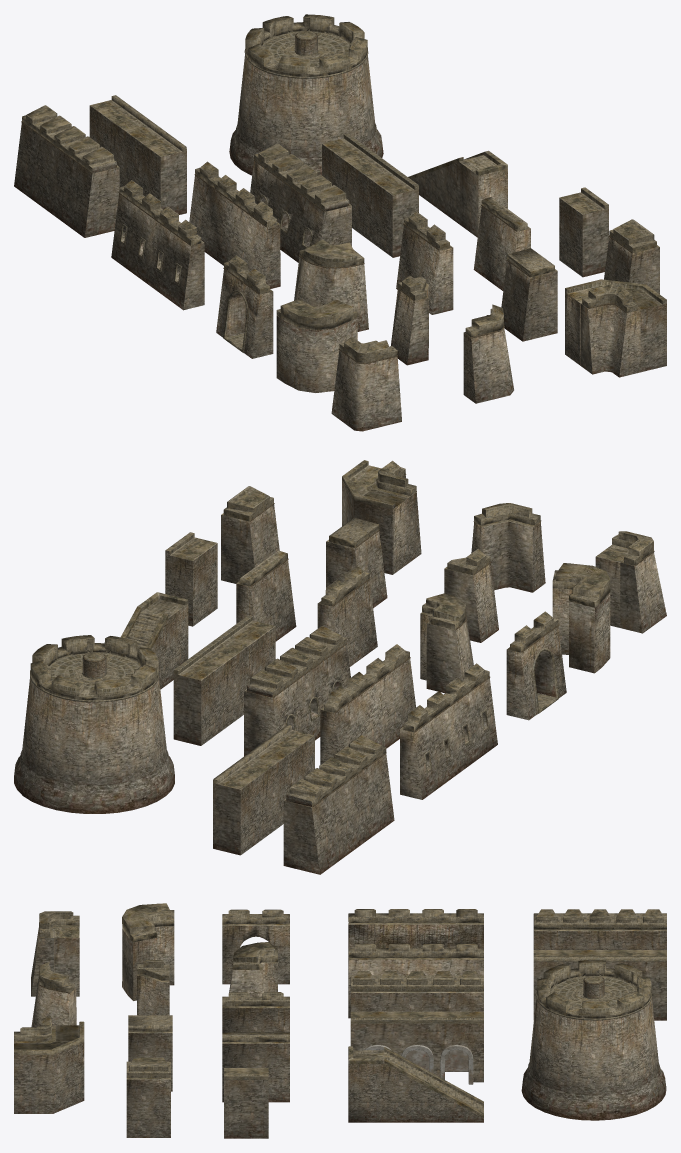
Rendered from modular_fort_01.glb.
3 views of the same model, one above another, from view 1: azimuth 30°, elevation 25°; view 2: azimuth 150°, elevation 25°; view 3: azimuth 270°, elevation 25° (orthographic). The views are drawn at different scales.
Parts seen in each view (by area): view 1: modular_fort_01_tower_round, modular_fort_01_wall_thick_straight_01, modular_fort_01_wall_thin_straight_02, modular_fort_01_wall_thick_straight_02, modular_fort_01_wall_thin_straight_01, modular_fort_01_wall_walkway_straight_01, modular_fort_01_wall_walkway_straight_02, modular_fort_01_wall_thick_corner_02, modular_fort_01_wall_thin_corner_02, modular_fort_01_wall_thin_corner_01, modular_fort_01_wall_stairs_straight_01, modular_fort_01_wall_thin_gate_01 (+9 smaller); view 2: modular_fort_01_tower_round, modular_fort_01_wall_thick_straight_01, modular_fort_01_wall_thin_straight_02, modular_fort_01_wall_walkway_straight_01, modular_fort_01_wall_walkway_straight_02, modular_fort_01_wall_thick_straight_02, modular_fort_01_wall_thin_straight_01, modular_fort_01_wall_thick_corner_02, modular_fort_01_wall_thin_corner_03, modular_fort_01_wall_thin_gate_01, modular_fort_01_wall_thick_corner_01, modular_fort_01_wall_thick_end_02 (+10 smaller); view 3: modular_fort_01_tower_round, modular_fort_01_wall_stairs_straight_01, modular_fort_01_wall_walkway_straight_01, modular_fort_01_wall_walkway_corner_01, modular_fort_01_wall_thick_straight_01, modular_fort_01_wall_thick_straight_02, modular_fort_01_wall_thin_straight_02, modular_fort_01_wall_thin_straight_01, modular_fort_01_wall_thick_corner_02, modular_fort_01_wall_thick_end_02, modular_fort_01_wall_walkway_straight_02, modular_fort_01_wall_thin_straight_03 (+10 smaller).
Part boxes in pixels (x1,y1,x2,y2): modular_fort_01_tower_round: (229,14,383,175); modular_fort_01_wall_thick_straight_01: (14,105,119,237); modular_fort_01_wall_thin_straight_02: (111,180,204,310); modular_fort_01_wall_thick_straight_02: (250,143,351,262); modular_fort_01_wall_thin_straight_01: (189,161,280,288); modular_fort_01_wall_walkway_straight_01: (322,133,418,257); modular_fort_01_wall_walkway_straight_02: (89,95,186,214); modular_fort_01_wall_thick_corner_02: (276,298,357,392); modular_fort_01_wall_thin_corner_02: (331,336,401,431); modular_fort_01_wall_thin_corner_01: (580,284,640,377); modular_fort_01_wall_stairs_straight_01: (408,150,507,237); modular_fort_01_wall_thin_gate_01: (216,255,273,358); modular_fort_01_tower_round: (14,635,174,813); modular_fort_01_wall_thick_straight_01: (283,735,394,874); modular_fort_01_wall_thin_straight_02: (400,663,497,799); modular_fort_01_wall_walkway_straight_01: (173,615,275,745); modular_fort_01_wall_walkway_straight_02: (213,724,314,855); modular_fort_01_wall_thick_straight_02: (244,626,350,756); modular_fort_01_wall_thin_straight_01: (320,644,415,764); modular_fort_01_wall_thick_corner_02: (552,563,610,673); modular_fort_01_wall_thin_corner_03: (471,503,545,592); modular_fort_01_wall_thin_gate_01: (506,611,566,720); modular_fort_01_wall_thick_corner_01: (420,593,473,693); modular_fort_01_wall_thick_end_02: (221,486,279,583); modular_fort_01_tower_round: (521,960,666,1120); modular_fort_01_wall_stairs_straight_01: (348,1046,483,1122); modular_fort_01_wall_walkway_straight_01: (350,1011,483,1084); modular_fort_01_wall_walkway_corner_01: (14,1021,84,1113); modular_fort_01_wall_thick_straight_01: (533,909,666,949); modular_fort_01_wall_thick_straight_02: (350,971,483,1011); modular_fort_01_wall_thin_straight_02: (348,909,483,948); modular_fort_01_wall_thin_straight_01: (348,943,483,1018); modular_fort_01_wall_thick_corner_02: (122,903,174,1000); modular_fort_01_wall_thick_end_02: (126,1057,170,1137); modular_fort_01_wall_walkway_straight_02: (533,949,666,1020); modular_fort_01_wall_thin_straight_03: (222,1032,289,1102).
Size of the model in its own units: 42.67 by 13.67 by 71.38.
Materials: 3 (3 with a texture image).
